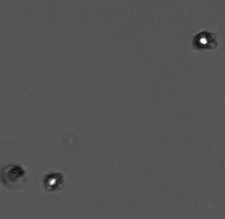Dead Cell: (3, 165, 26, 184)
Living Cell: (194, 31, 216, 49), (43, 172, 61, 189)
